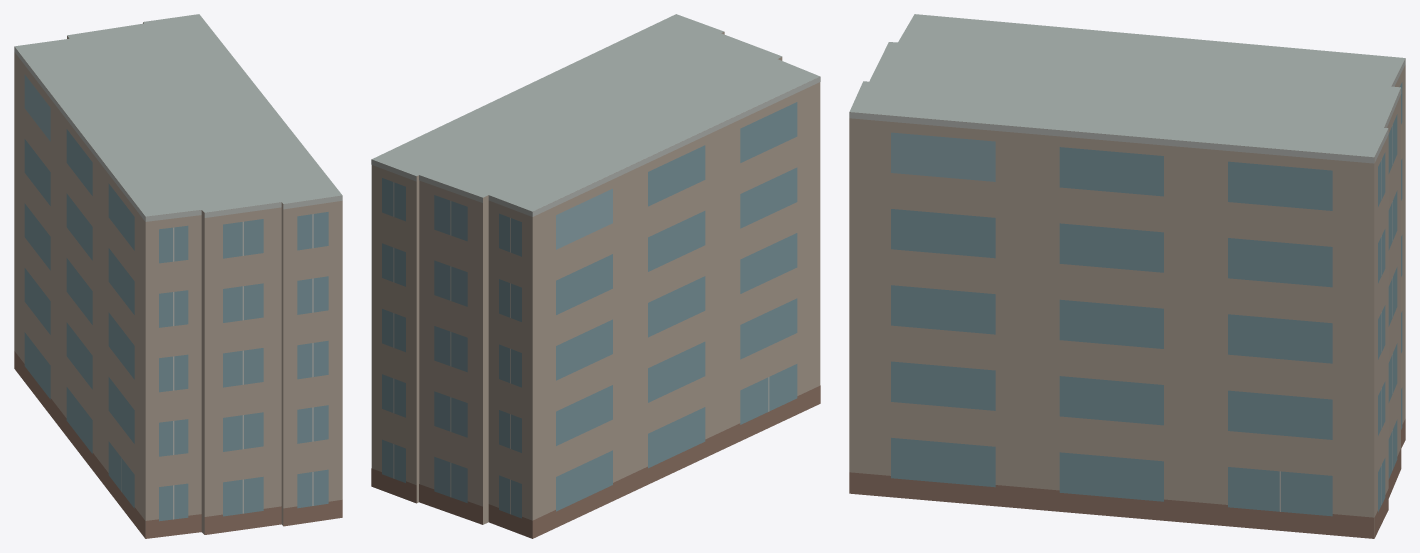
The model's file is survey-upis-32506446.glb.
The picture shows the model from 3 angles, left to right: view 1: azimuth 30°, elevation 25°; view 2: azimuth 150°, elevation 25°; view 3: azimuth 270°, elevation 25°; orthographic projection. The views are drawn at different scales.
Parts seen in each view (by area): view 1: survey-upis-32506446.tmp; view 2: survey-upis-32506446.tmp; view 3: survey-upis-32506446.tmp.
Boxes of the visible parts, x1,y1,x2,y2 form: survey-upis-32506446.tmp: (14,14,342,538); survey-upis-32506446.tmp: (371,14,820,538); survey-upis-32506446.tmp: (849,14,1405,538).
Size of the model in its own units: 11.93 by 14.8 by 19.56.
